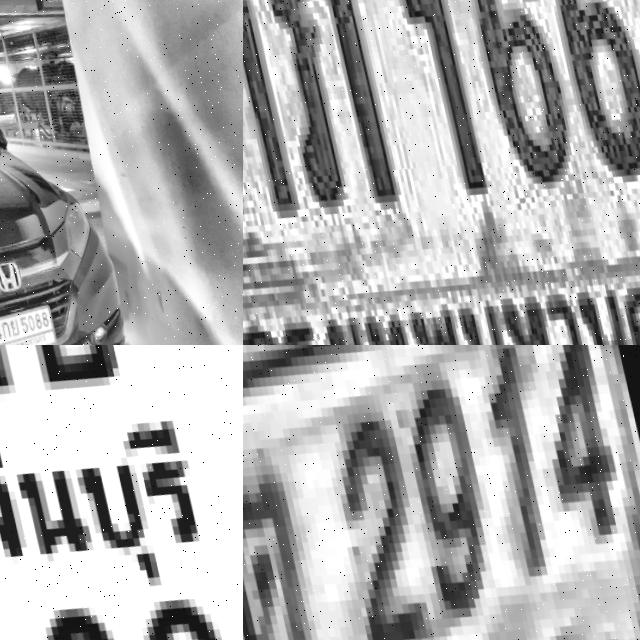license-plate: (243, 0, 640, 345), (243, 345, 640, 640), (0, 345, 243, 640), (0, 287, 62, 345)
